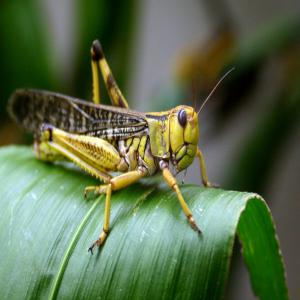locust: (2, 30, 235, 195)
